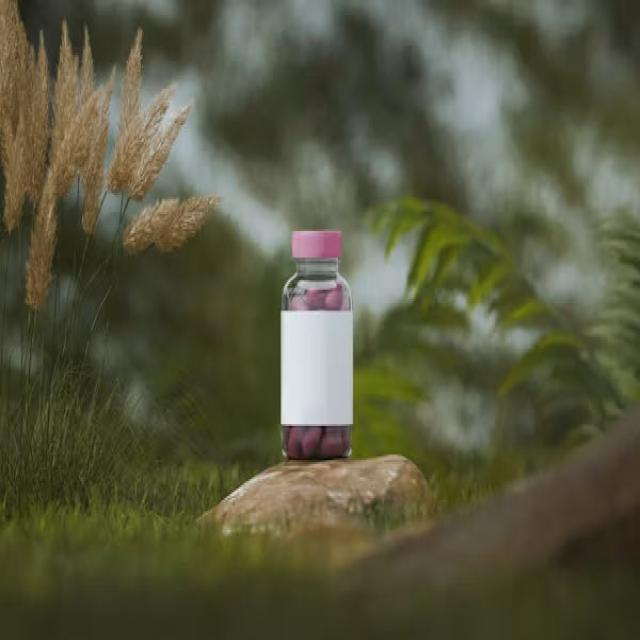Bottle: (281, 232, 353, 460)
